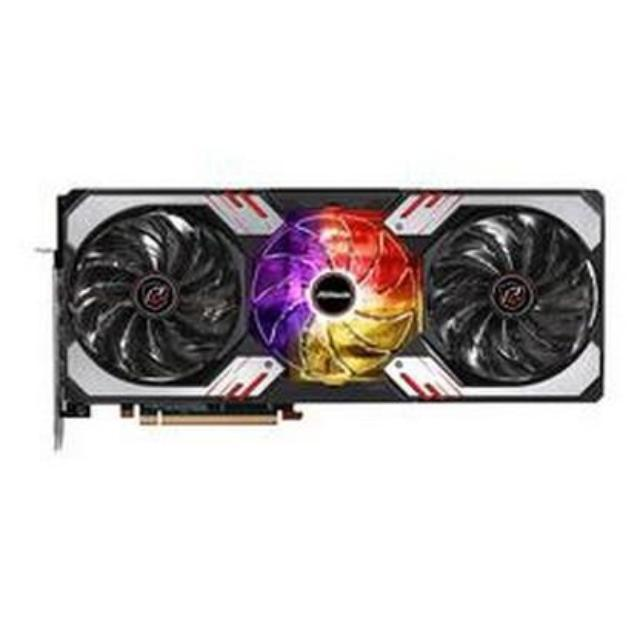GPU: (46, 176, 614, 430)
